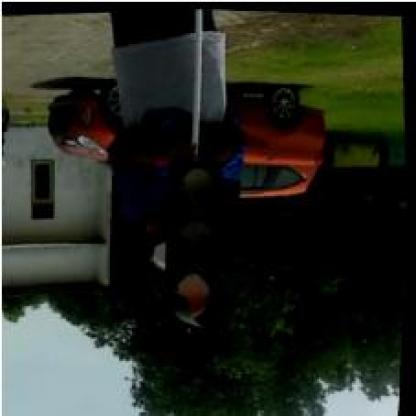red: (154, 156, 246, 328)
